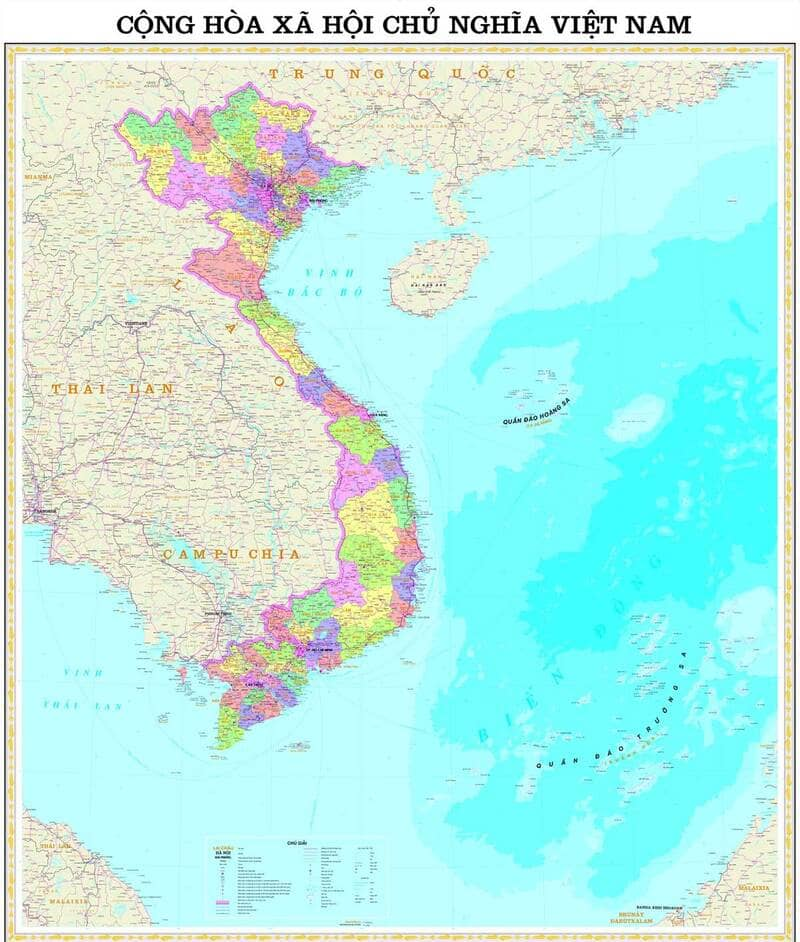Island: (525, 607, 758, 795), (495, 364, 578, 437)
